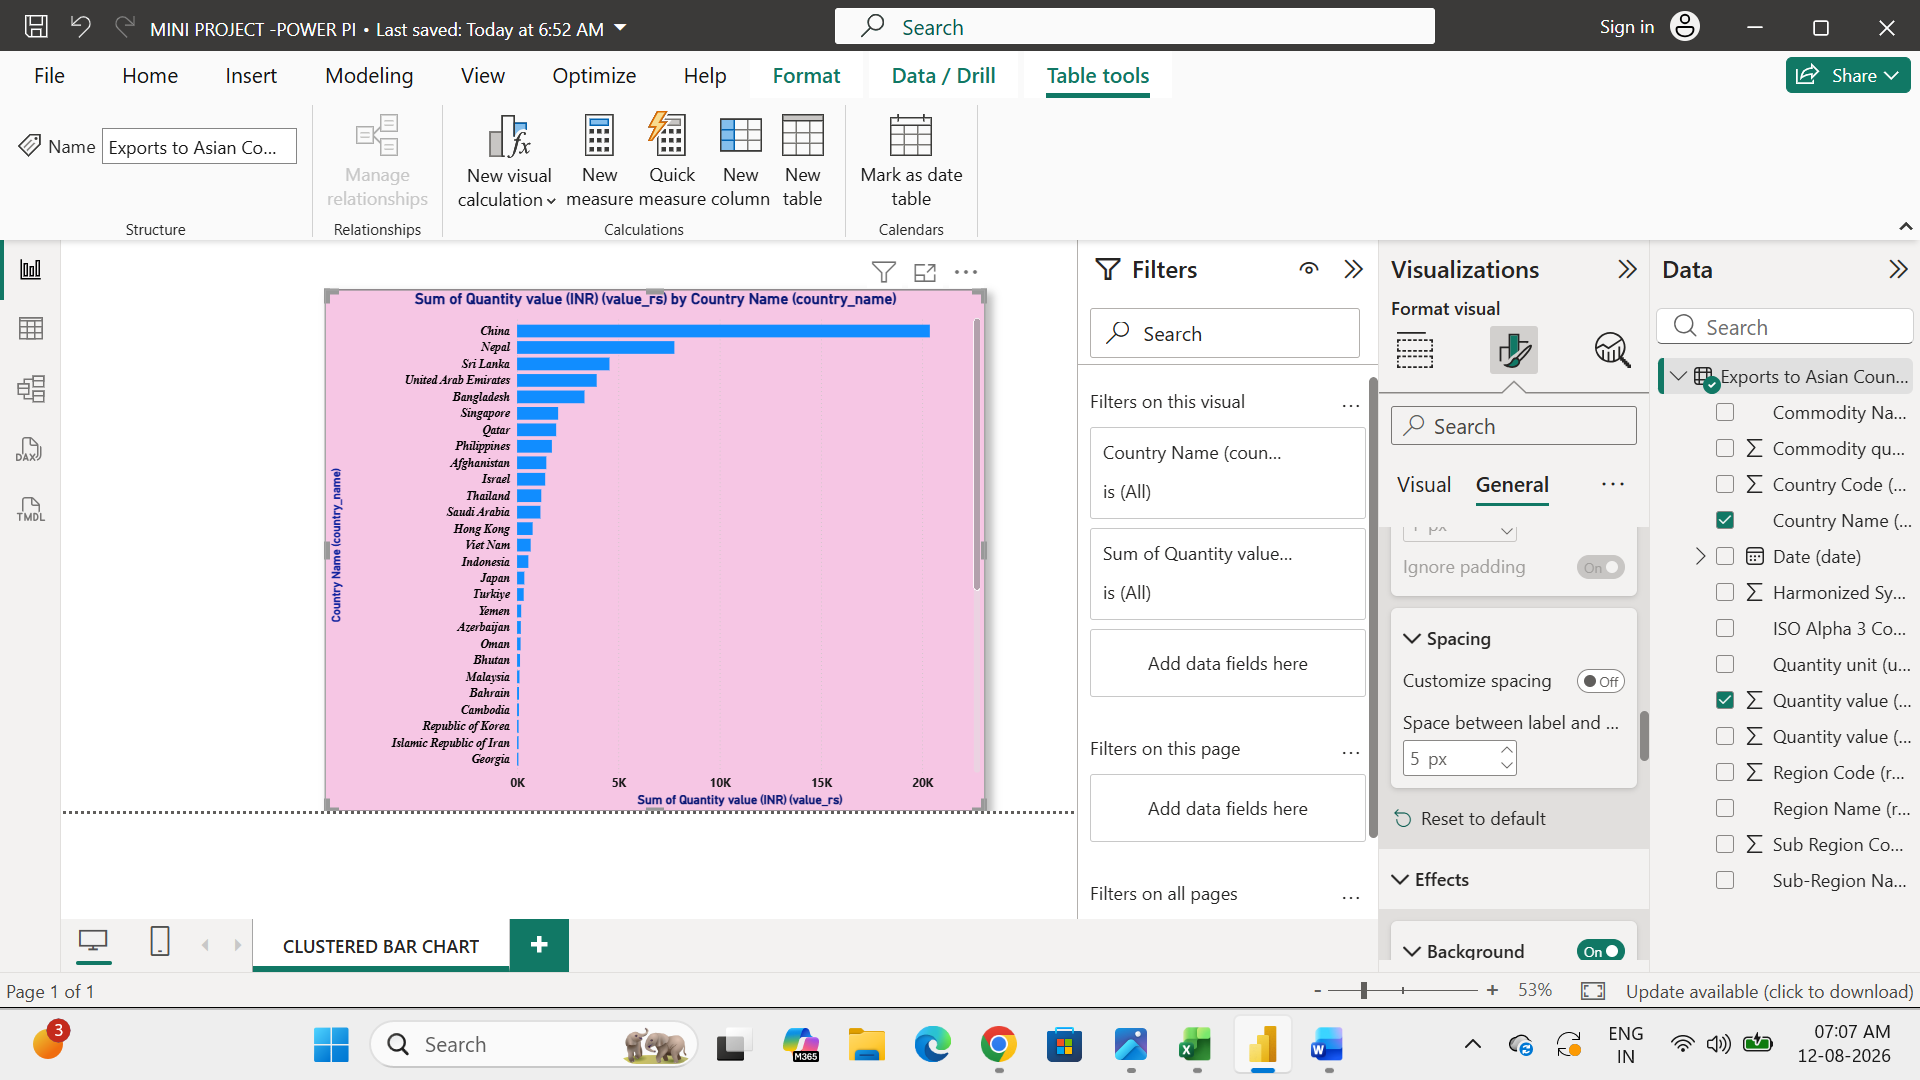

Layout of this report page (visuals, bound fields, positions):
{"tool":"powerbi","page":{"name":"CLUSTERED BAR CHART","canvas":[1280,720],"ordinal":0},"visuals":[{"type":"barChart","fields":{"Category":["Exports to Asian Countries_Samp.Country Name (country_name)"],"Y":["Sum(Exports to Asian Countries_Samp.Quantity value (INR) (value_rs))"]},"box":[332.6,62.4,831.5,657.6],"z":0}]}

Visuals, with their boxes on the page's 1280x720 design canvas (x1, y1, x2, y2). These are canvas units, not pixel positions in the 1920x1080 screenshot, which may show the page scaled, cropped or inside an application window:
barChart - Exports to Asian Countries_Samp.Country Name (country_name) x Sum(Exports to Asian Countries_Samp.Quantity value (INR) (value_rs)): l=333, t=62, r=1164, b=720
